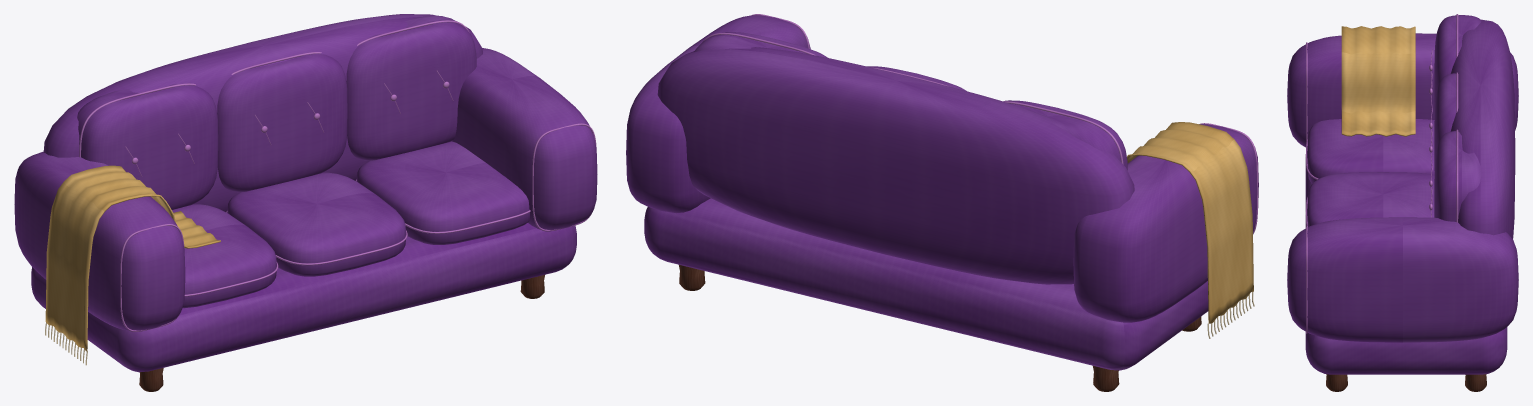
The model's file is V5_Sofa.fbx.
3 renders of one model, left to right at view 1: azimuth 30°, elevation 25°; view 2: azimuth 150°, elevation 25°; view 3: azimuth 270°, elevation 25°, orthographic. The views are drawn at different scales.
Parts seen in each view (by area): view 1: V5_Sofa; view 2: V5_Sofa; view 3: V5_Sofa.
Part boxes in pixels (box(x1,y1,x2,y2)): V5_Sofa: box(14, 14, 597, 391); V5_Sofa: box(626, 14, 1258, 391); V5_Sofa: box(1287, 14, 1518, 391).
Size of the model in its own units: 2.27 by 1.04 by 1.
1 material, 1 textured.
